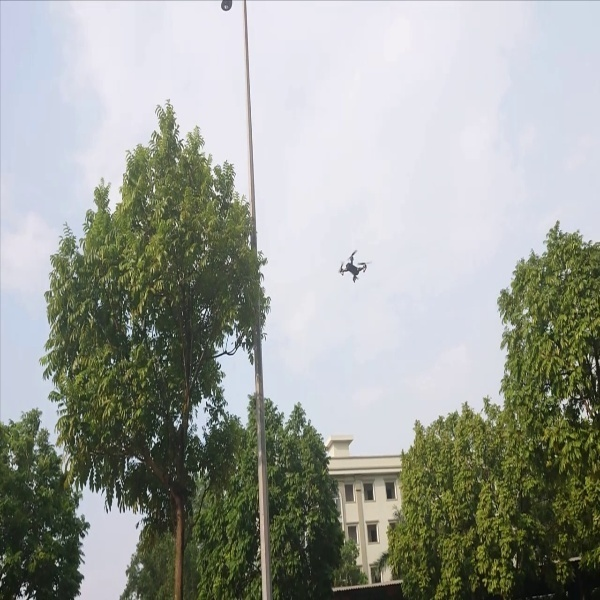drone: (326, 246, 375, 295)
